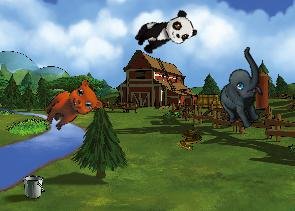bear: (38, 72, 108, 142)
elephant: (201, 46, 285, 134)
panda: (131, 7, 198, 59)
